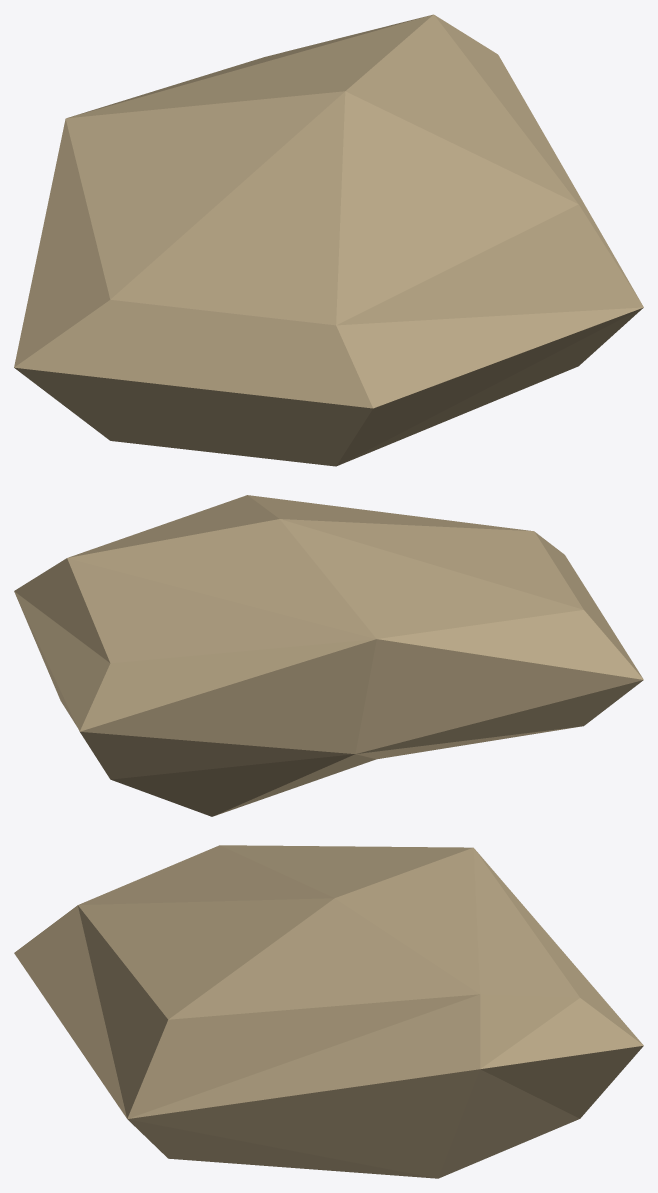
File: cherry pit.fbx
3 renders of one model, top to bottom at view 1: azimuth 30°, elevation 25°; view 2: azimuth 150°, elevation 25°; view 3: azimuth 270°, elevation 25°, orthographic. The views are drawn at different scales.
Visible parts, largest first — view 1: Poppy__seeds2; view 2: Poppy__seeds2; view 3: Poppy__seeds2.
Part boxes in pixels (<box>): Poppy__seeds2: <box>14,14,643,466</box>; Poppy__seeds2: <box>14,495,643,816</box>; Poppy__seeds2: <box>14,845,643,1178</box>.
Size of the model in its own units: 3.12 by 1.36 by 3.18.
